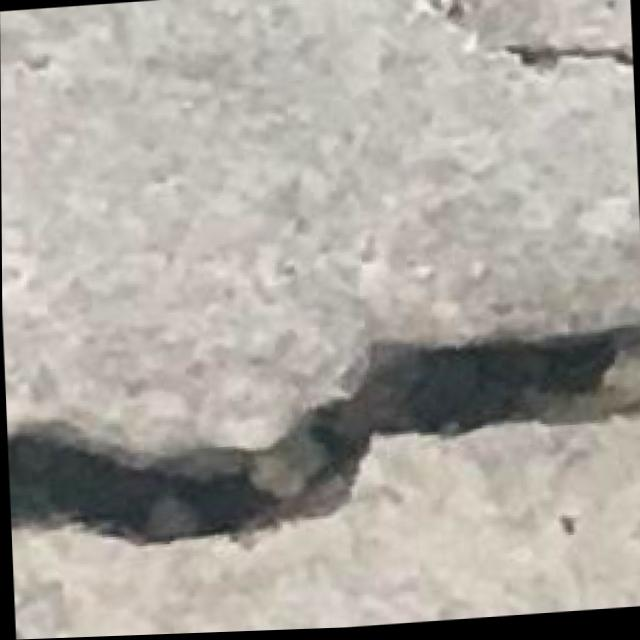Crack: (7, 294, 640, 583), (398, 0, 634, 109)
